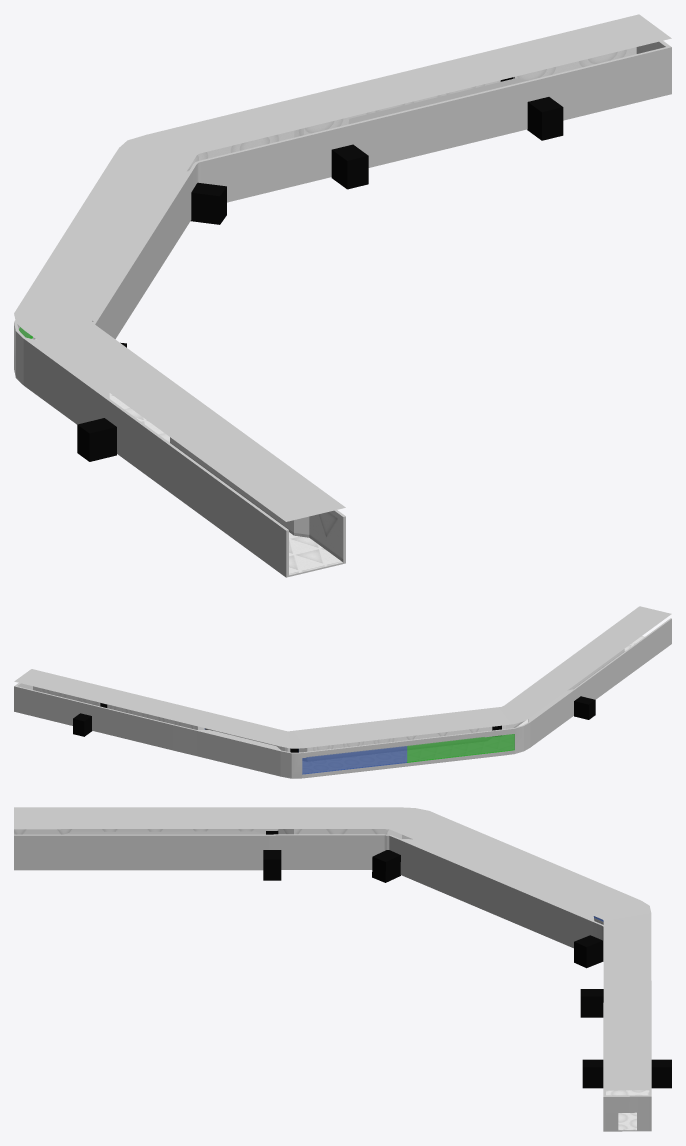
The model's file is SM_Bridge.fbx.
3 renders of one model, top to bottom at view 1: azimuth 30°, elevation 25°; view 2: azimuth 150°, elevation 25°; view 3: azimuth 270°, elevation 25°, orthographic. The views are drawn at different scales.
Parts seen in each view (by area): view 1: group_pasted__pPlane1, group_pasted__pPlane2, polySurface3, polySurface6, polySurface7, polySurface5; view 2: group_pasted__pPlane1, group_pasted__pPlane2, polySurface9, polySurface3, polySurface8; view 3: group_pasted__pPlane2, group_pasted__pPlane1, polySurface4, polySurface5, polySurface6, polySurface7, polySurface8, polySurface2.
Boxes of the visible parts, x1,y1,x2,y2 form: group_pasted__pPlane1: (14, 40, 671, 577); group_pasted__pPlane2: (14, 14, 671, 521); polySurface3: (77, 418, 116, 461); polySurface6: (331, 144, 368, 189); polySurface7: (527, 97, 563, 140); polySurface5: (191, 182, 226, 224); group_pasted__pPlane1: (14, 618, 671, 778); group_pasted__pPlane2: (14, 606, 671, 748); polySurface9: (302, 734, 514, 774); polySurface3: (574, 696, 595, 719); polySurface8: (73, 713, 91, 736); group_pasted__pPlane2: (14, 807, 651, 1090); group_pasted__pPlane1: (14, 829, 651, 1131); polySurface4: (372, 850, 400, 882); polySurface5: (574, 935, 603, 968); polySurface6: (580, 989, 603, 1017); polySurface7: (582, 1059, 603, 1088); polySurface8: (651, 1059, 671, 1088); polySurface2: (263, 850, 281, 880).
Size of the model in its own units: 589 by 39.84 by 560.
13 materials, 5 textured.
